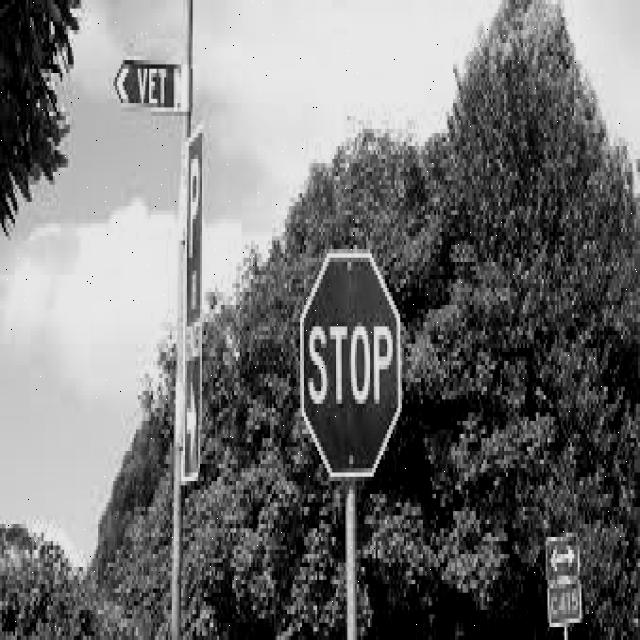stop sign: (301, 252, 400, 479)
